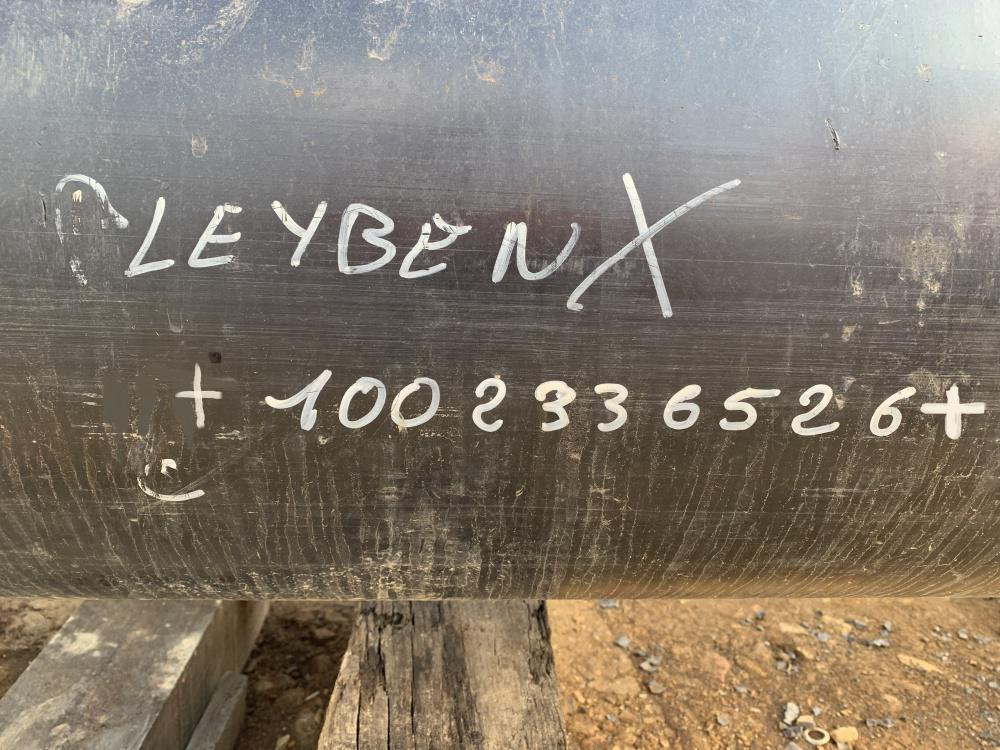+: (920, 383, 985, 438), (178, 362, 219, 425)
0: (338, 373, 384, 431), (393, 375, 441, 430)
1: (265, 368, 330, 431)
2: (793, 384, 843, 436), (472, 376, 507, 435)
3: (592, 379, 634, 435), (535, 379, 578, 432)
5: (721, 386, 780, 433)
6: (868, 386, 916, 438), (665, 382, 703, 431)
B: (338, 202, 394, 274)
E: (400, 213, 471, 280), (190, 204, 246, 271)
L: (127, 196, 177, 279)
N: (493, 222, 580, 290)
X: (571, 170, 749, 323)
Y: (267, 198, 329, 269)
